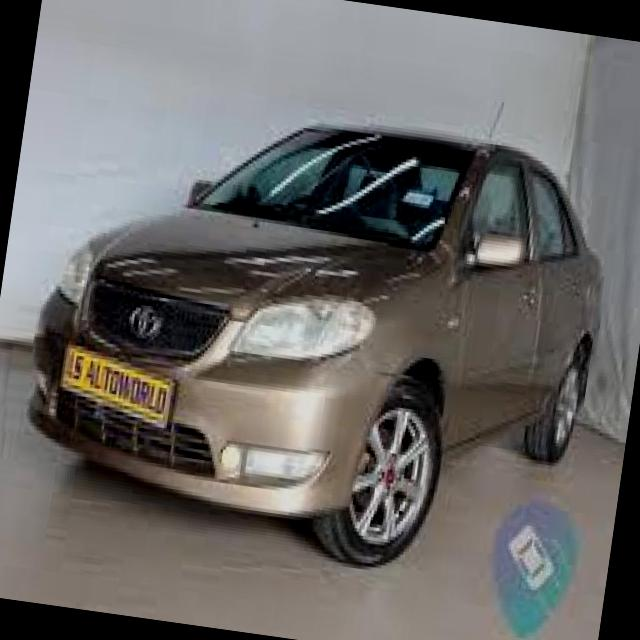ToyotaVios: (8, 75, 624, 595)
